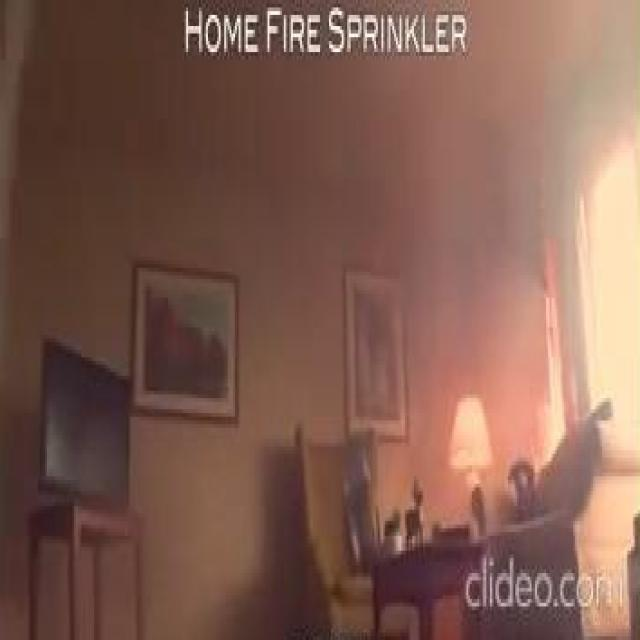smoke: (533, 253, 568, 476)
